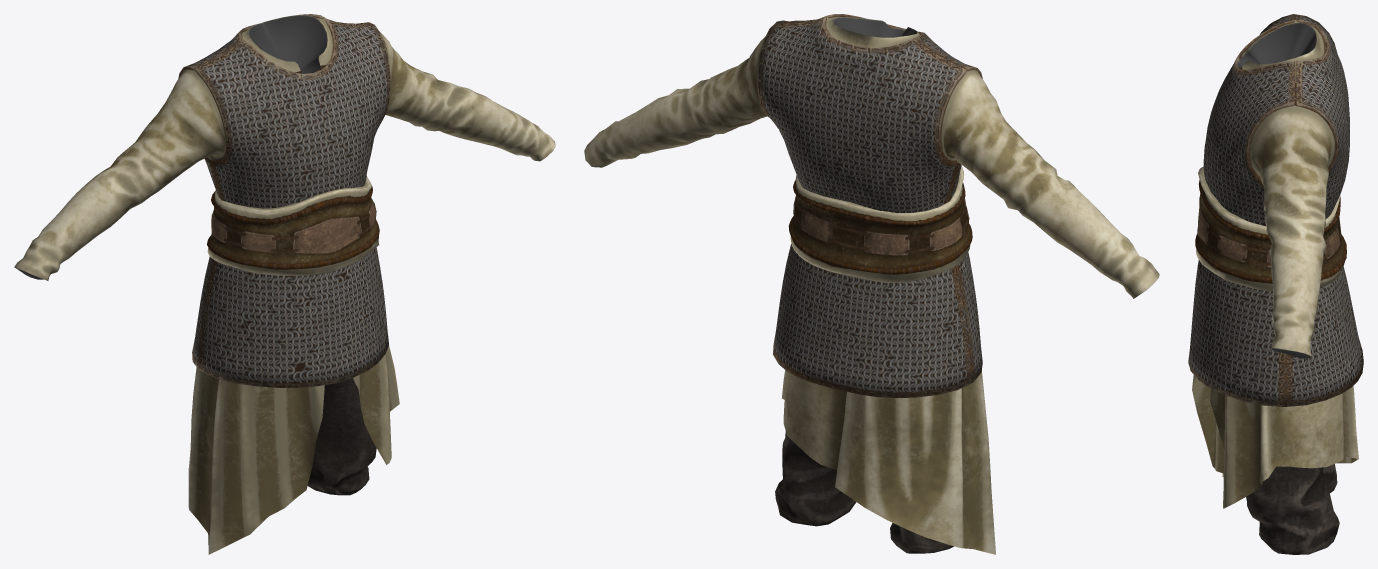
File: dunland_caerdh_chainmail_light_a.fbx
3 renders of one model, left to right at view 1: azimuth 30°, elevation 25°; view 2: azimuth 150°, elevation 25°; view 3: azimuth 270°, elevation 25°, orthographic. The views are drawn at different scales.
Visible parts, largest first — view 1: dunland_caerdh_chainmail_light_a.0, dunland_caerdh_chainmail_light_a.skirt, dunland_caerdh_chainmail_light_a.1; view 2: dunland_caerdh_chainmail_light_a.0, dunland_caerdh_chainmail_light_a.skirt, dunland_caerdh_chainmail_light_a.1; view 3: dunland_caerdh_chainmail_light_a.0, dunland_caerdh_chainmail_light_a.skirt, dunland_caerdh_chainmail_light_a.1.
Part boxes in pixels (box(x1,y1,x2,y2)): dunland_caerdh_chainmail_light_a.0: box(14, 14, 555, 495); dunland_caerdh_chainmail_light_a.skirt: box(188, 346, 399, 554); dunland_caerdh_chainmail_light_a.1: box(207, 176, 379, 275); dunland_caerdh_chainmail_light_a.0: box(584, 14, 1159, 553); dunland_caerdh_chainmail_light_a.skirt: box(781, 355, 995, 554); dunland_caerdh_chainmail_light_a.1: box(788, 166, 972, 282); dunland_caerdh_chainmail_light_a.0: box(1188, 14, 1363, 554); dunland_caerdh_chainmail_light_a.skirt: box(1192, 375, 1358, 508); dunland_caerdh_chainmail_light_a.1: box(1195, 166, 1346, 291).
Size of the model in its own units: 1.38 by 0.3872 by 1.21.
Materials: 3 (3 with a texture image).
